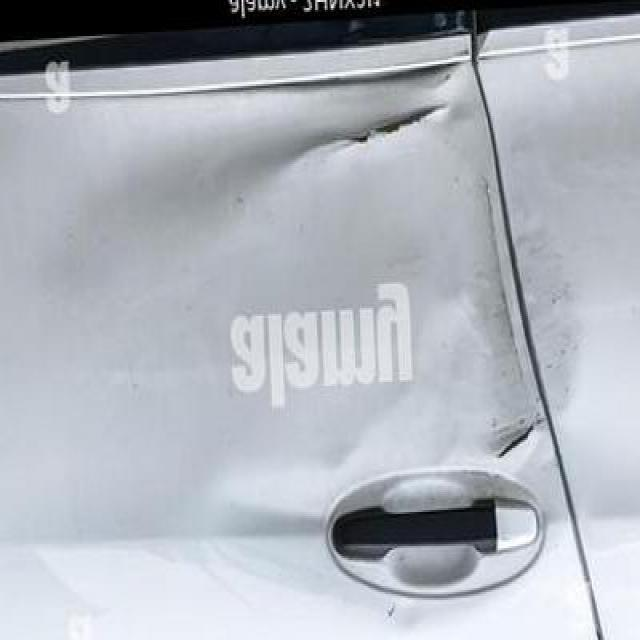dent: (262, 82, 460, 184), (488, 396, 550, 478)
